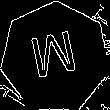M_S: (28, 28, 82, 87)
